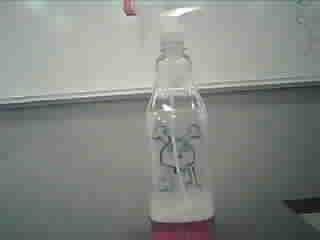hazard: (118, 0, 232, 240)
